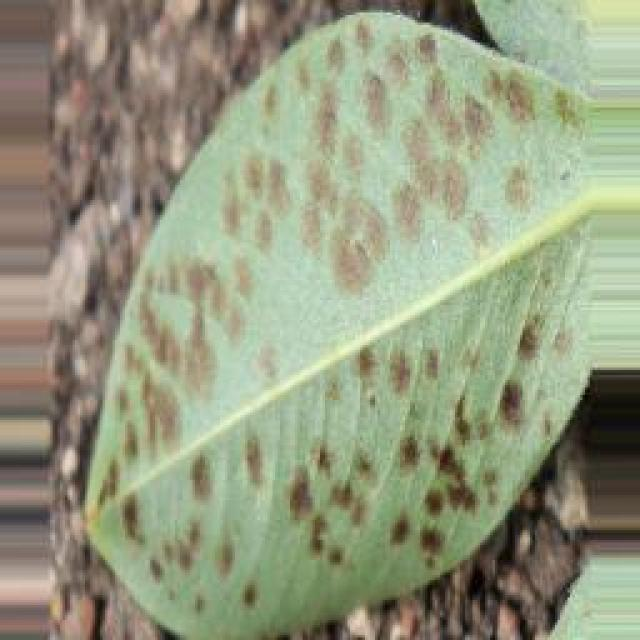Whitefly: (110, 0, 615, 585)
